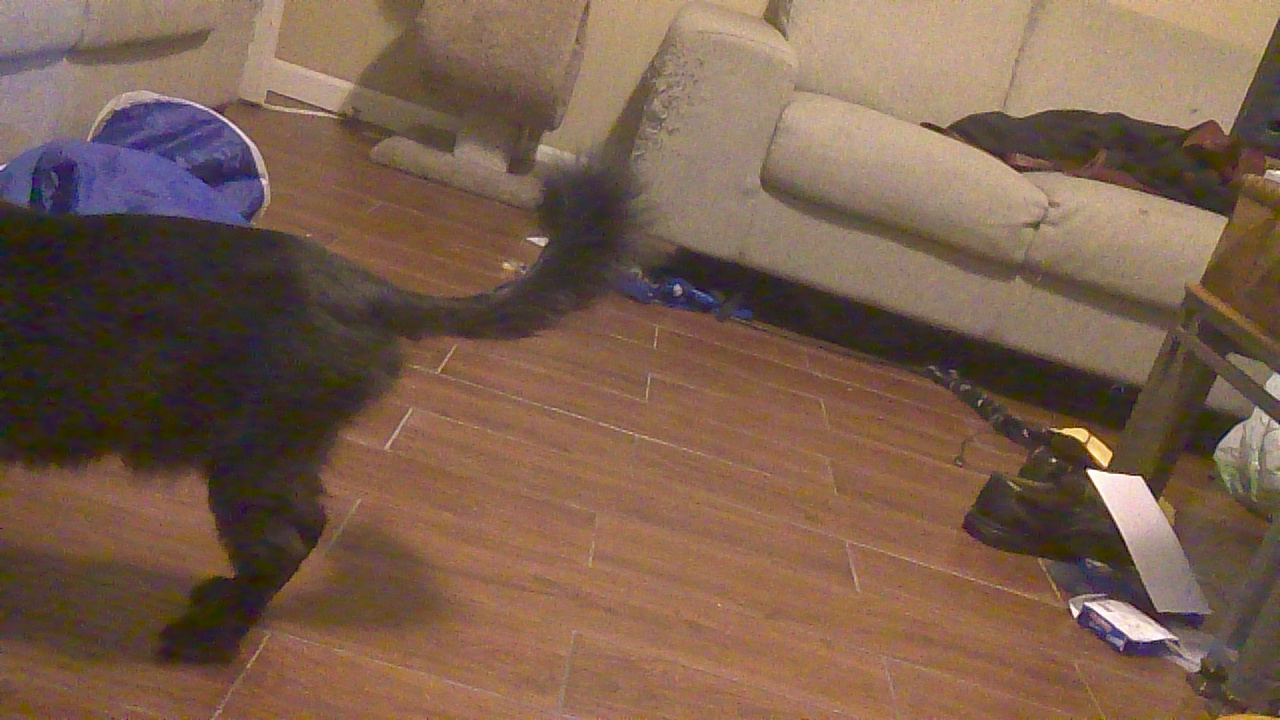cat: (1, 143, 658, 673)
